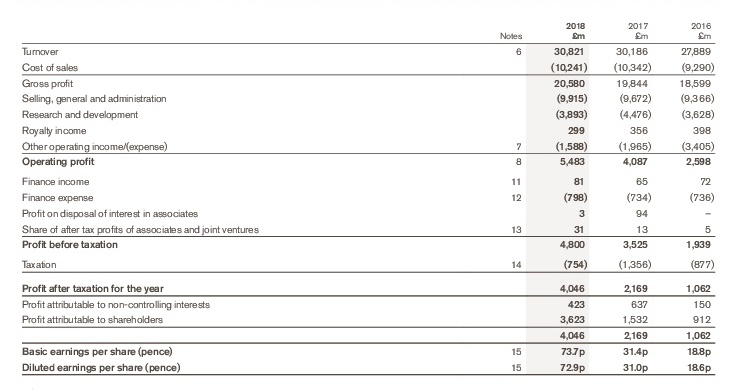table: (0, 0, 732, 390)
